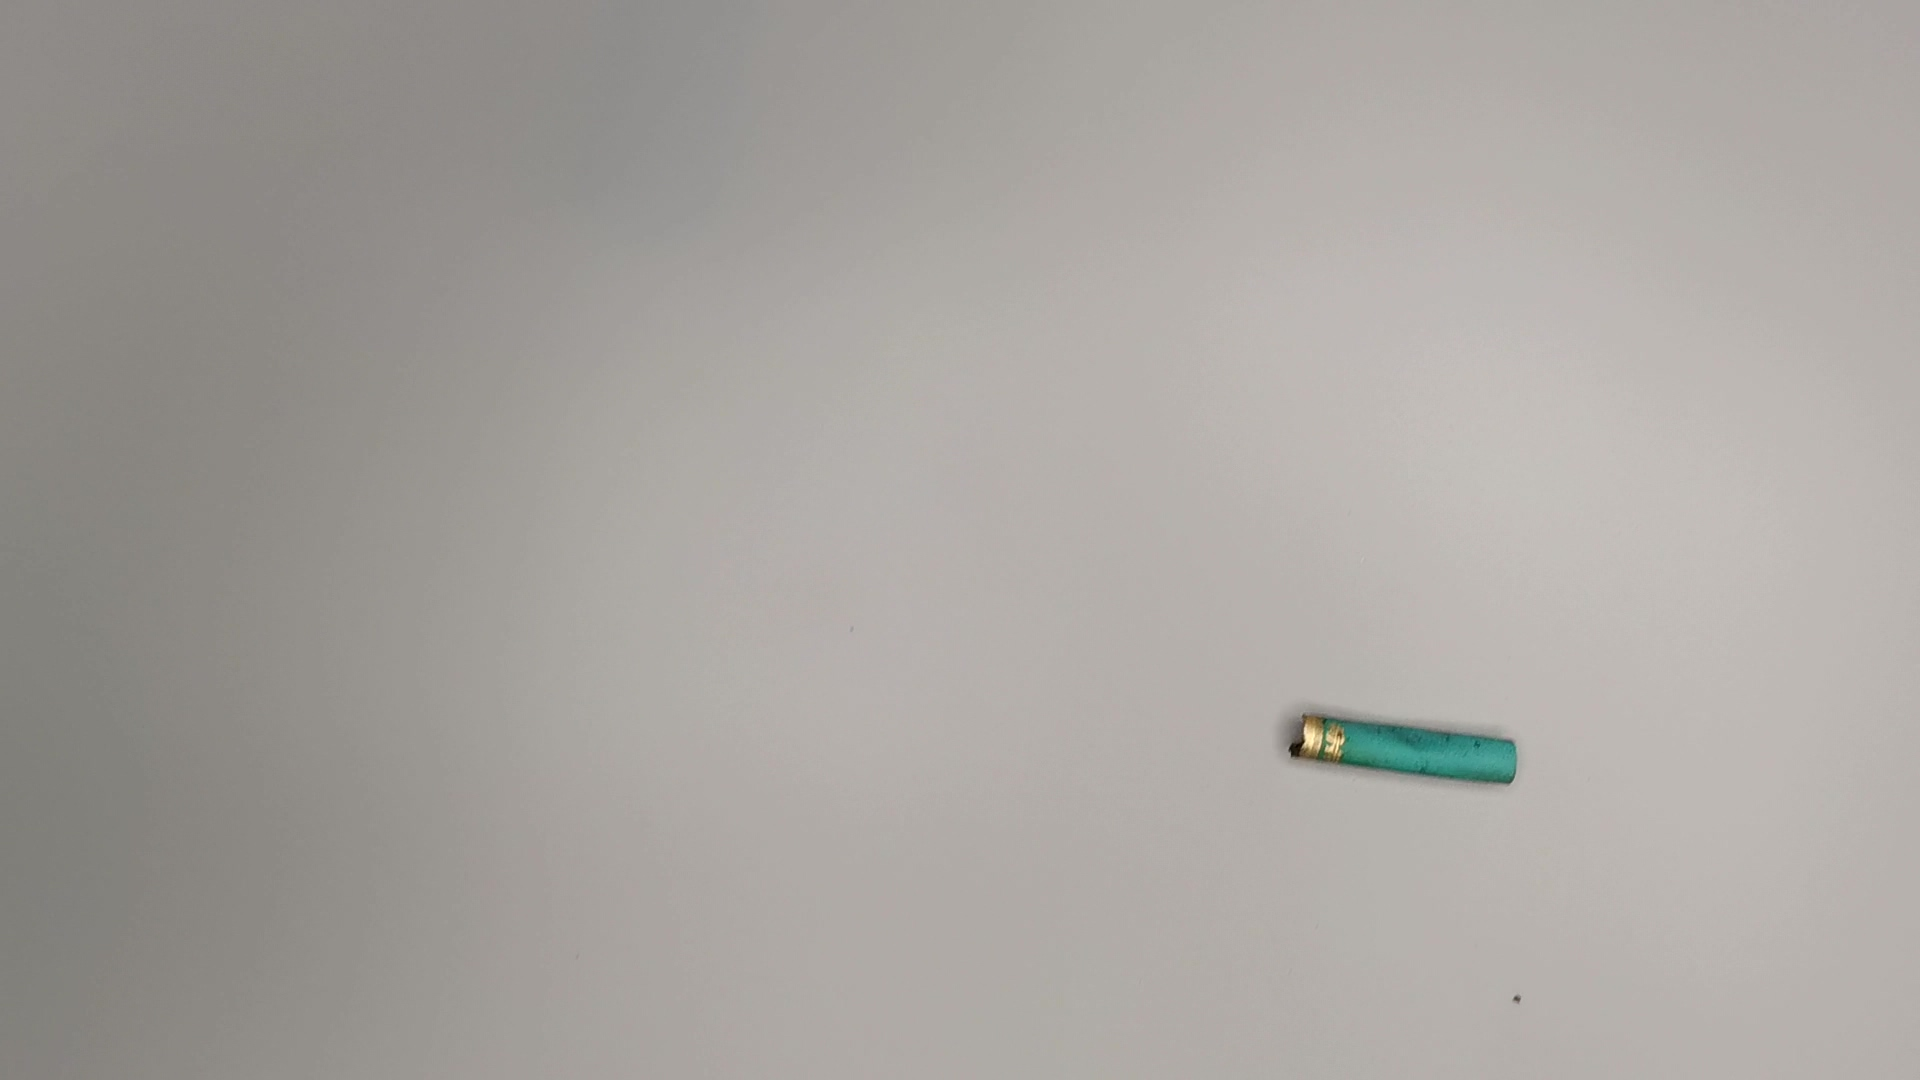cigarette: (1280, 705, 1534, 794)
